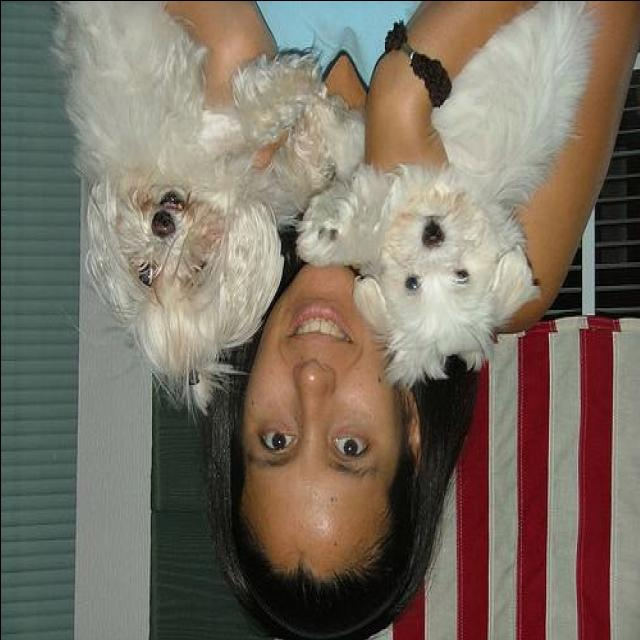maltese_dog: (292, 2, 599, 391), (45, 2, 311, 408)
